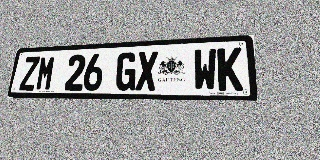2: (64, 54, 86, 91)
6: (83, 53, 105, 91)
G: (115, 52, 137, 91)
K: (217, 47, 243, 91)
M: (35, 56, 56, 91)
W: (193, 48, 217, 91)
X: (135, 51, 158, 91)
Z: (19, 56, 40, 91)
